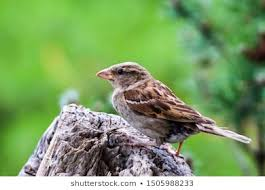home_sparrow: (81, 52, 257, 164)
